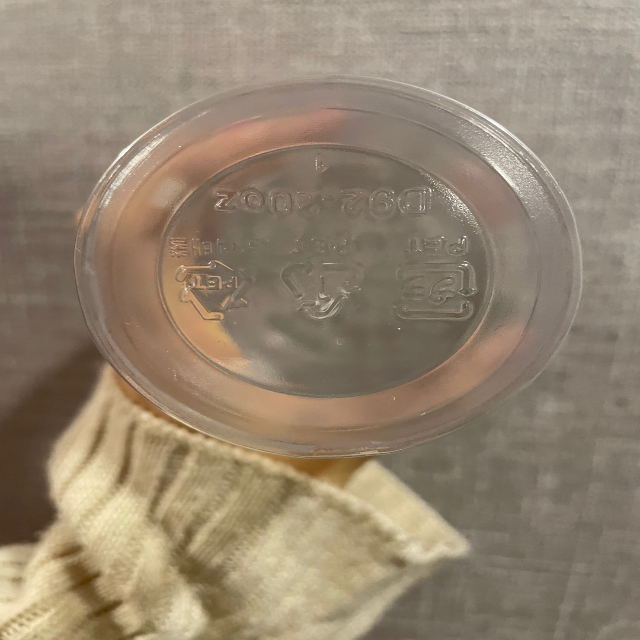pet: (162, 225, 272, 327), (273, 228, 373, 331), (387, 226, 484, 330)
